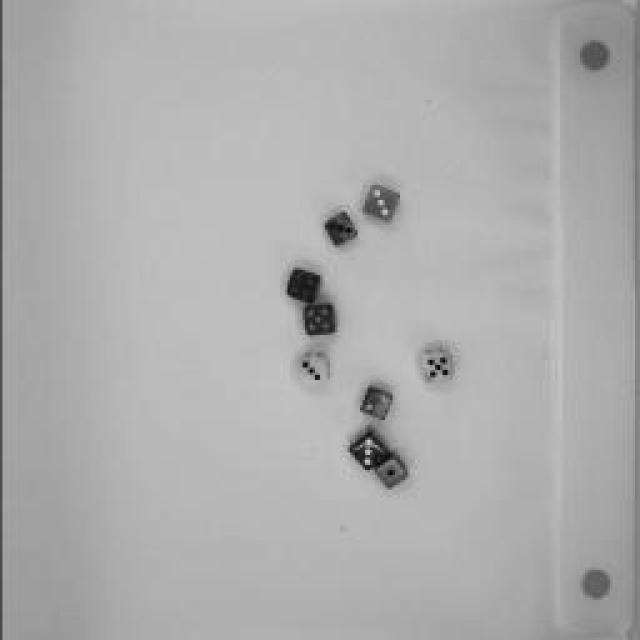dice_1: (371, 450, 411, 495)
dice_2: (358, 378, 398, 422)
dice_3: (342, 427, 392, 475), (288, 350, 338, 390), (362, 181, 400, 224), (321, 210, 359, 252)
dice_4: (286, 262, 319, 308)
dice_5: (299, 298, 341, 340), (417, 349, 455, 386)
